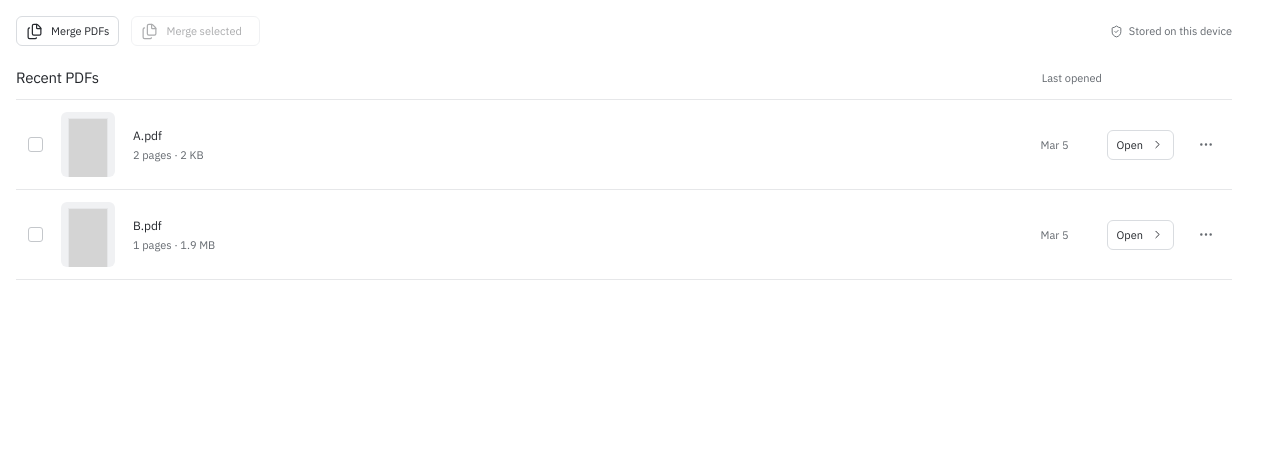
Test: context menu › Tab closes and returns focus to More
Expected: the text "A.pdf" is shown, [133,128,162,142]
Click the button named "More actions for B.pdf": x=1206, y=234 [1192,220,1220,248]
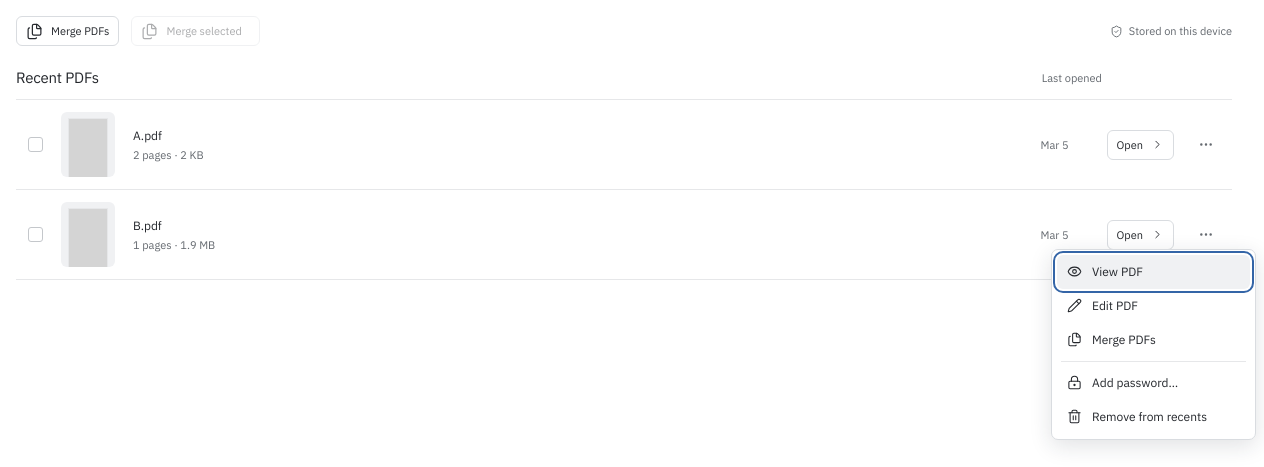
Press Tab
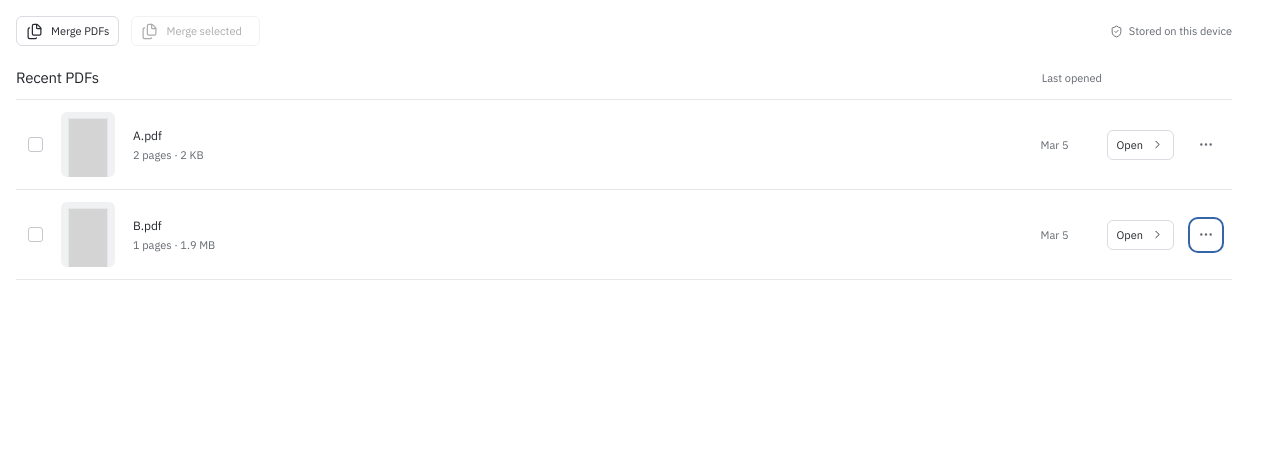
Now the menu is gone
